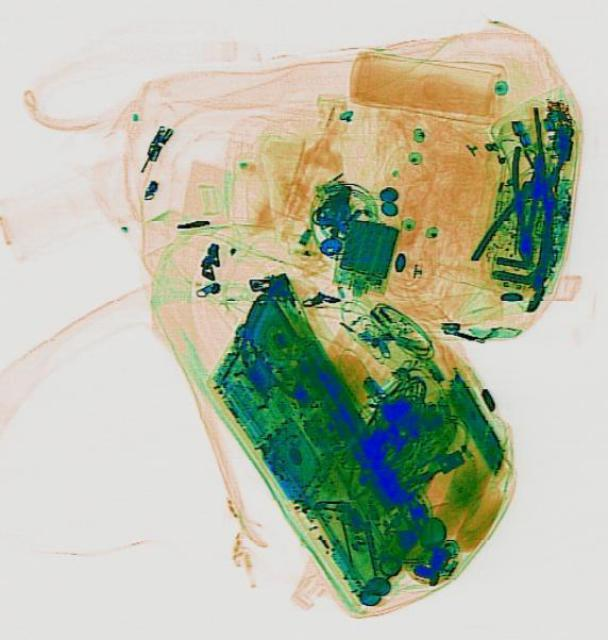Pliers: (465, 137, 585, 286), (507, 144, 543, 260)
